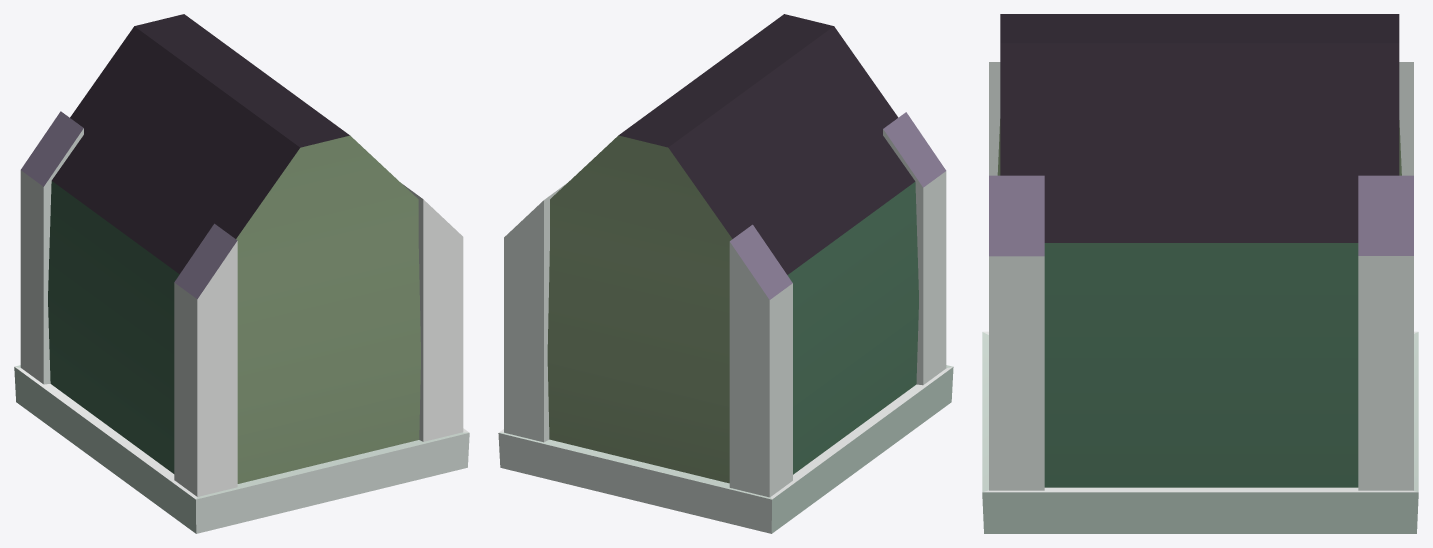
The model's file is House02_Green_White.glb.
3 views of the same model, side by side, from view 1: azimuth 30°, elevation 25°; view 2: azimuth 150°, elevation 25°; view 3: azimuth 270°, elevation 25° (orthographic). The views are drawn at different scales.
Parts seen in each view (by area): view 1: House02_Green_White; view 2: House02_Green_White; view 3: House02_Green_White.
Part boxes in pixels (x1,y1,x2,y2): House02_Green_White: (14, 14, 469, 533); House02_Green_White: (498, 14, 953, 533); House02_Green_White: (982, 14, 1418, 533).
Size of the model in its own units: 2.04 by 2.52 by 2.34.
Materials: 1 (1 with a texture image).
